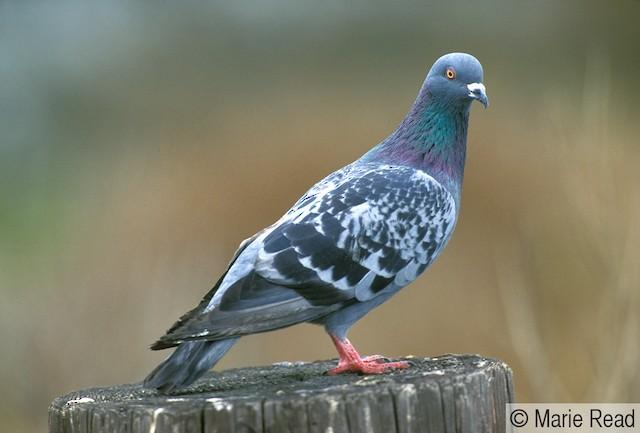Flying Rat: (147, 52, 490, 391)
